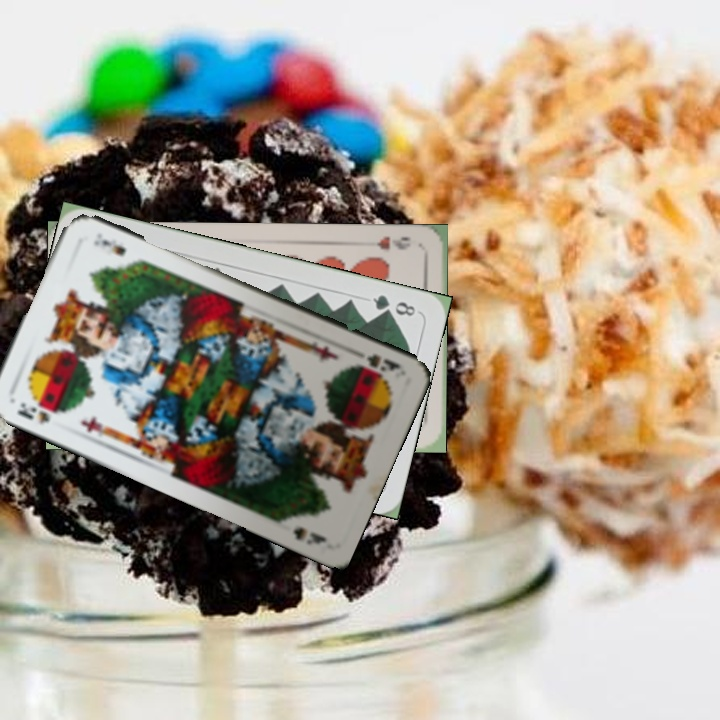G8: (368, 291, 418, 319)
H9: (372, 233, 413, 253)
SK: (351, 345, 404, 378), (13, 398, 52, 427)
